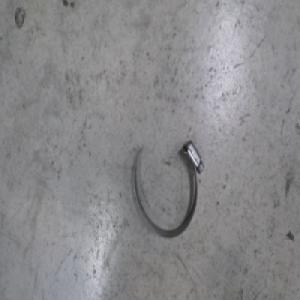AdjustableClamp: (133, 135, 208, 241)
